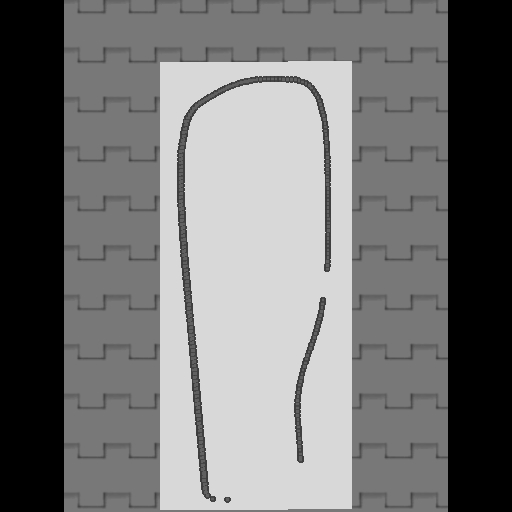Defect: (320, 267, 334, 301)
